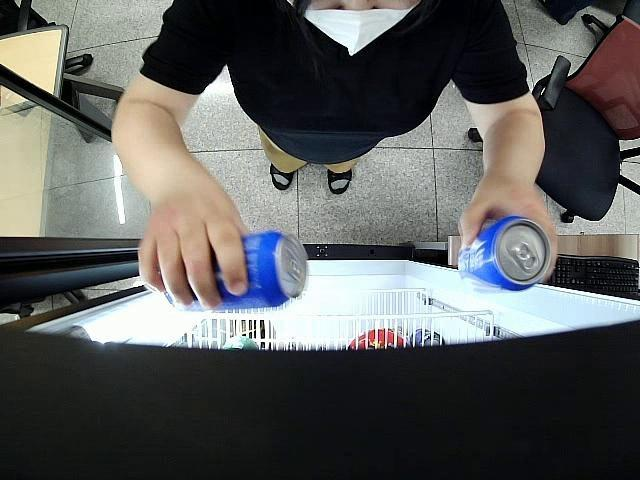13_pocariSweat: (162, 230, 306, 314), (460, 218, 550, 289)
